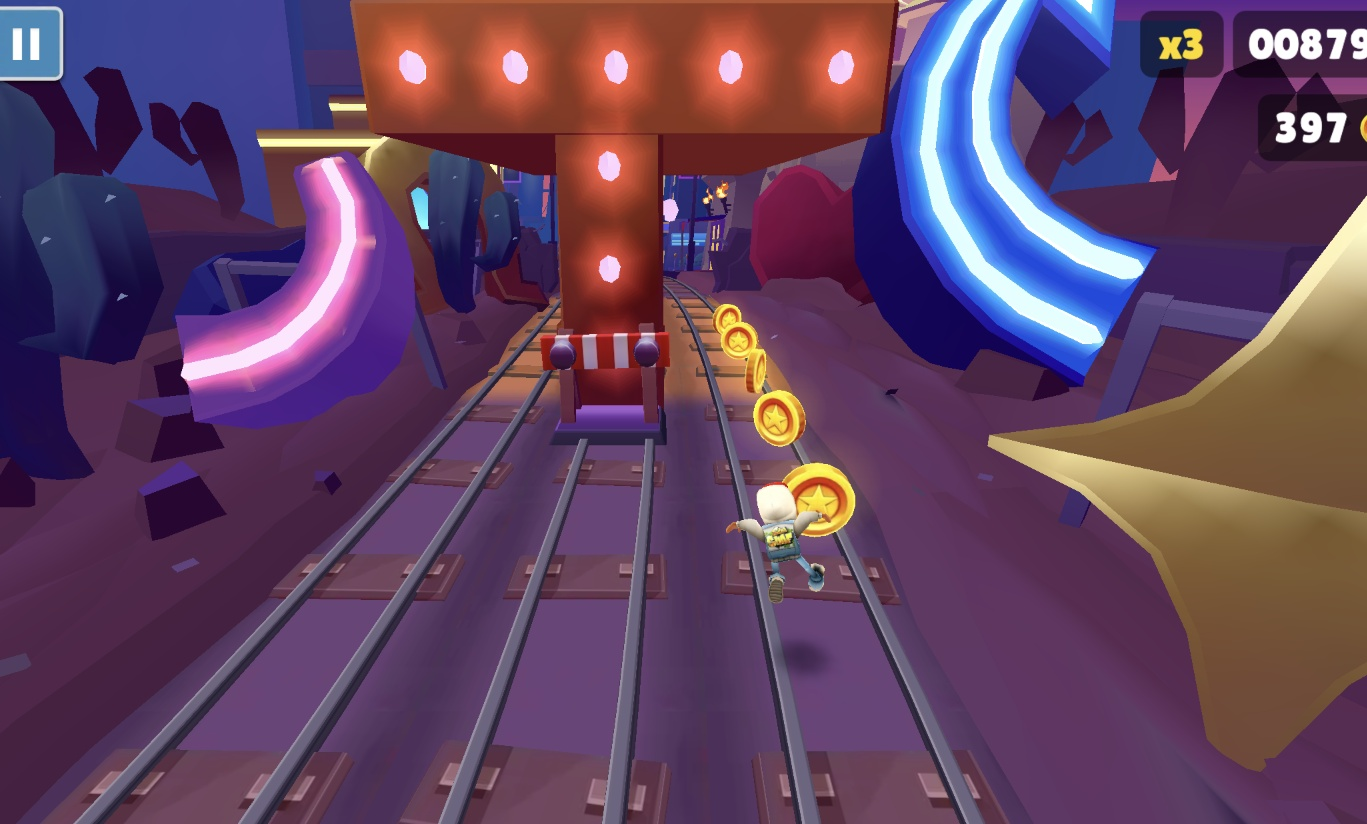ground_barrier: (540, 327, 672, 449)
pillar: (552, 134, 667, 425)
